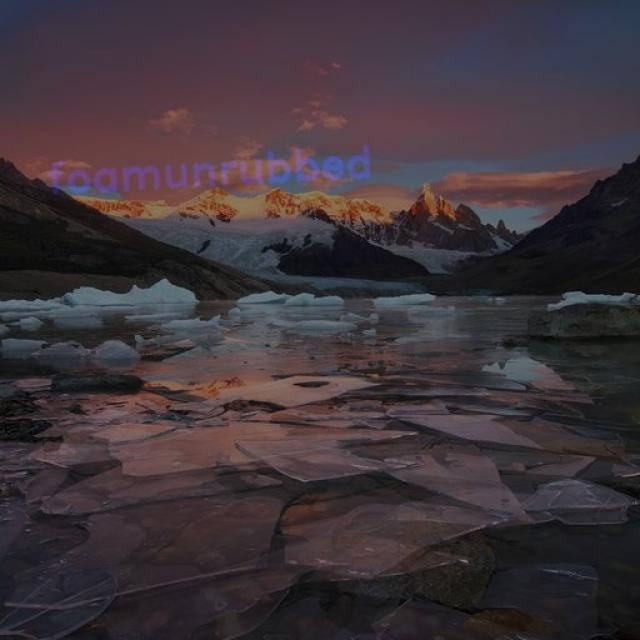watermark: (36, 144, 375, 200)
